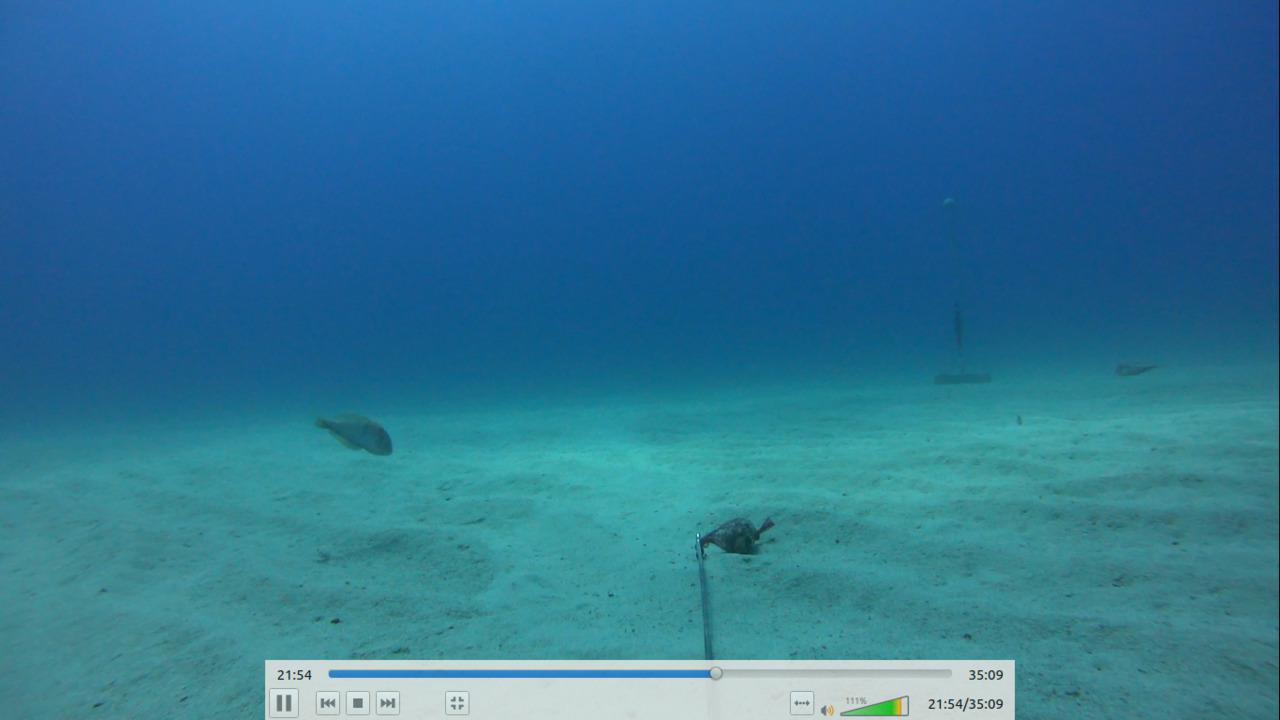raor: (302, 407, 403, 463)
